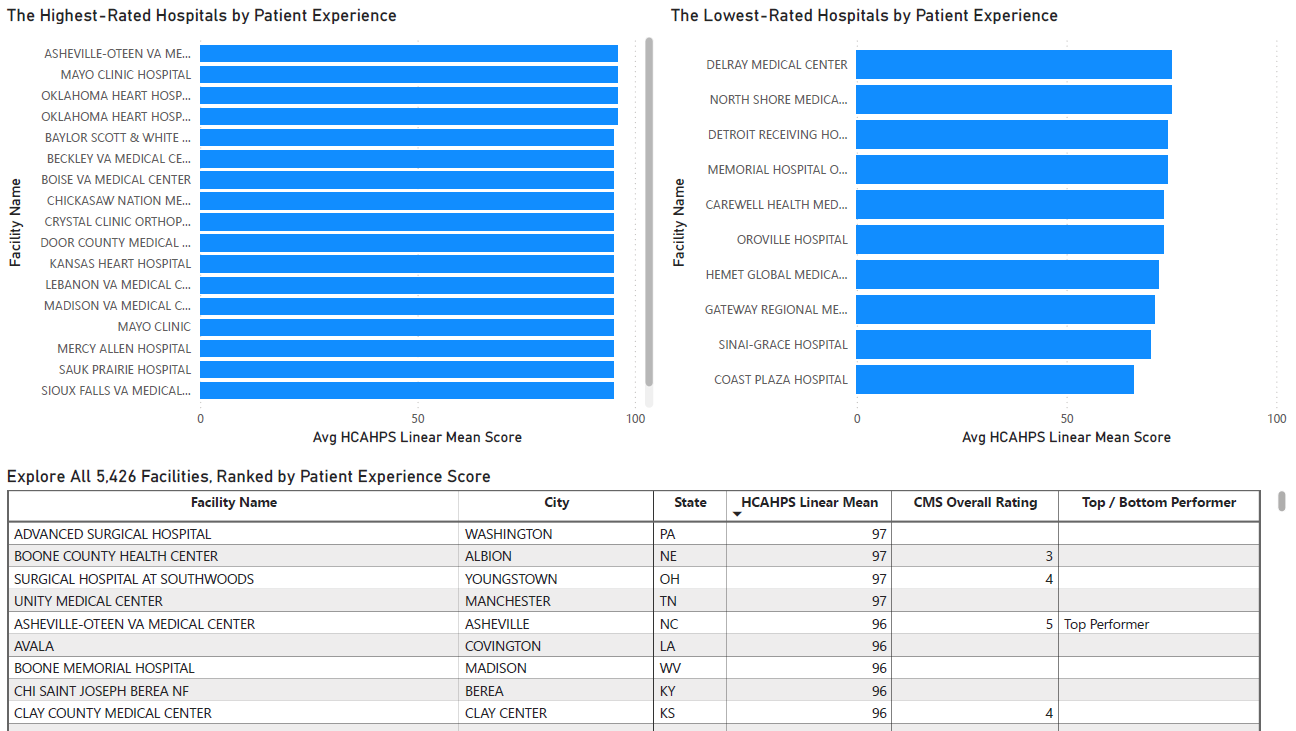

The dashboard page shown, as its layout file describes it:
{"tool":"powerbi","page":{"name":"Top / Bottom Performers","canvas":[1280,720],"ordinal":2},"visuals":[{"type":"barChart","title":"The Highest-Rated Hospitals by Patient Experience","fields":{"Category":["mart vw_dim_facility.facility_name"],"Y":["Avg(mart vw_top_bottom_performers.hcahps_linear_mean_value)"]},"box":[12.8,0,645.3,438.1],"z":0},{"type":"barChart","title":"The Lowest-Rated Hospitals by Patient Experience","fields":{"Category":["mart vw_dim_facility.facility_name"],"Y":["Avg(mart vw_top_bottom_performers.hcahps_linear_mean_value)"]},"box":[665,0,614.9,438.1],"z":1000},{"type":"tableEx","title":"Explore All 5,426 Facilities, Ranked by Patient Experience Score","fields":{"Values":["mart vw_dim_facility.facility_name","mart vw_dim_facility.city","mart vw_dim_facility.state","Avg(mart vw_top_bottom_performers.hcahps_linear_mean_value)","Sum(mart vw_rating_comparison.overall_rating)","mart vw_top_bottom_performers.flag_top_bottom"]},"box":[12.8,452.8,1267.1,267.2],"z":2000}]}

Visuals, with their boxes in screenshot pixels (x1, y1, x2, y2), scaled from the page's 1280x720 canvas onto the 1296x731 screenshot:
"The Highest-Rated Hospitals by Patient Experience" barChart: [left=13, top=0, right=666, bottom=445]
"The Lowest-Rated Hospitals by Patient Experience" barChart: [left=673, top=0, right=1295, bottom=445]
"Explore All 5,426 Facilities, Ranked by Patient Experience Score" tableEx: [left=13, top=460, right=1295, bottom=730]
